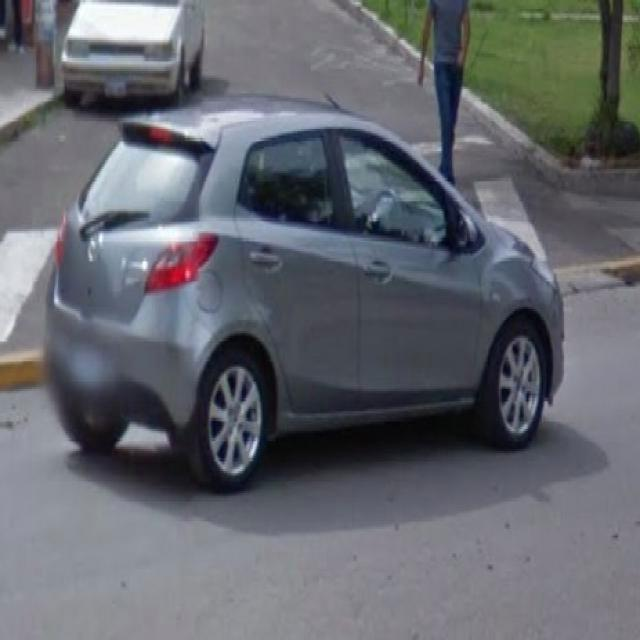Car: (35, 94, 560, 501)
